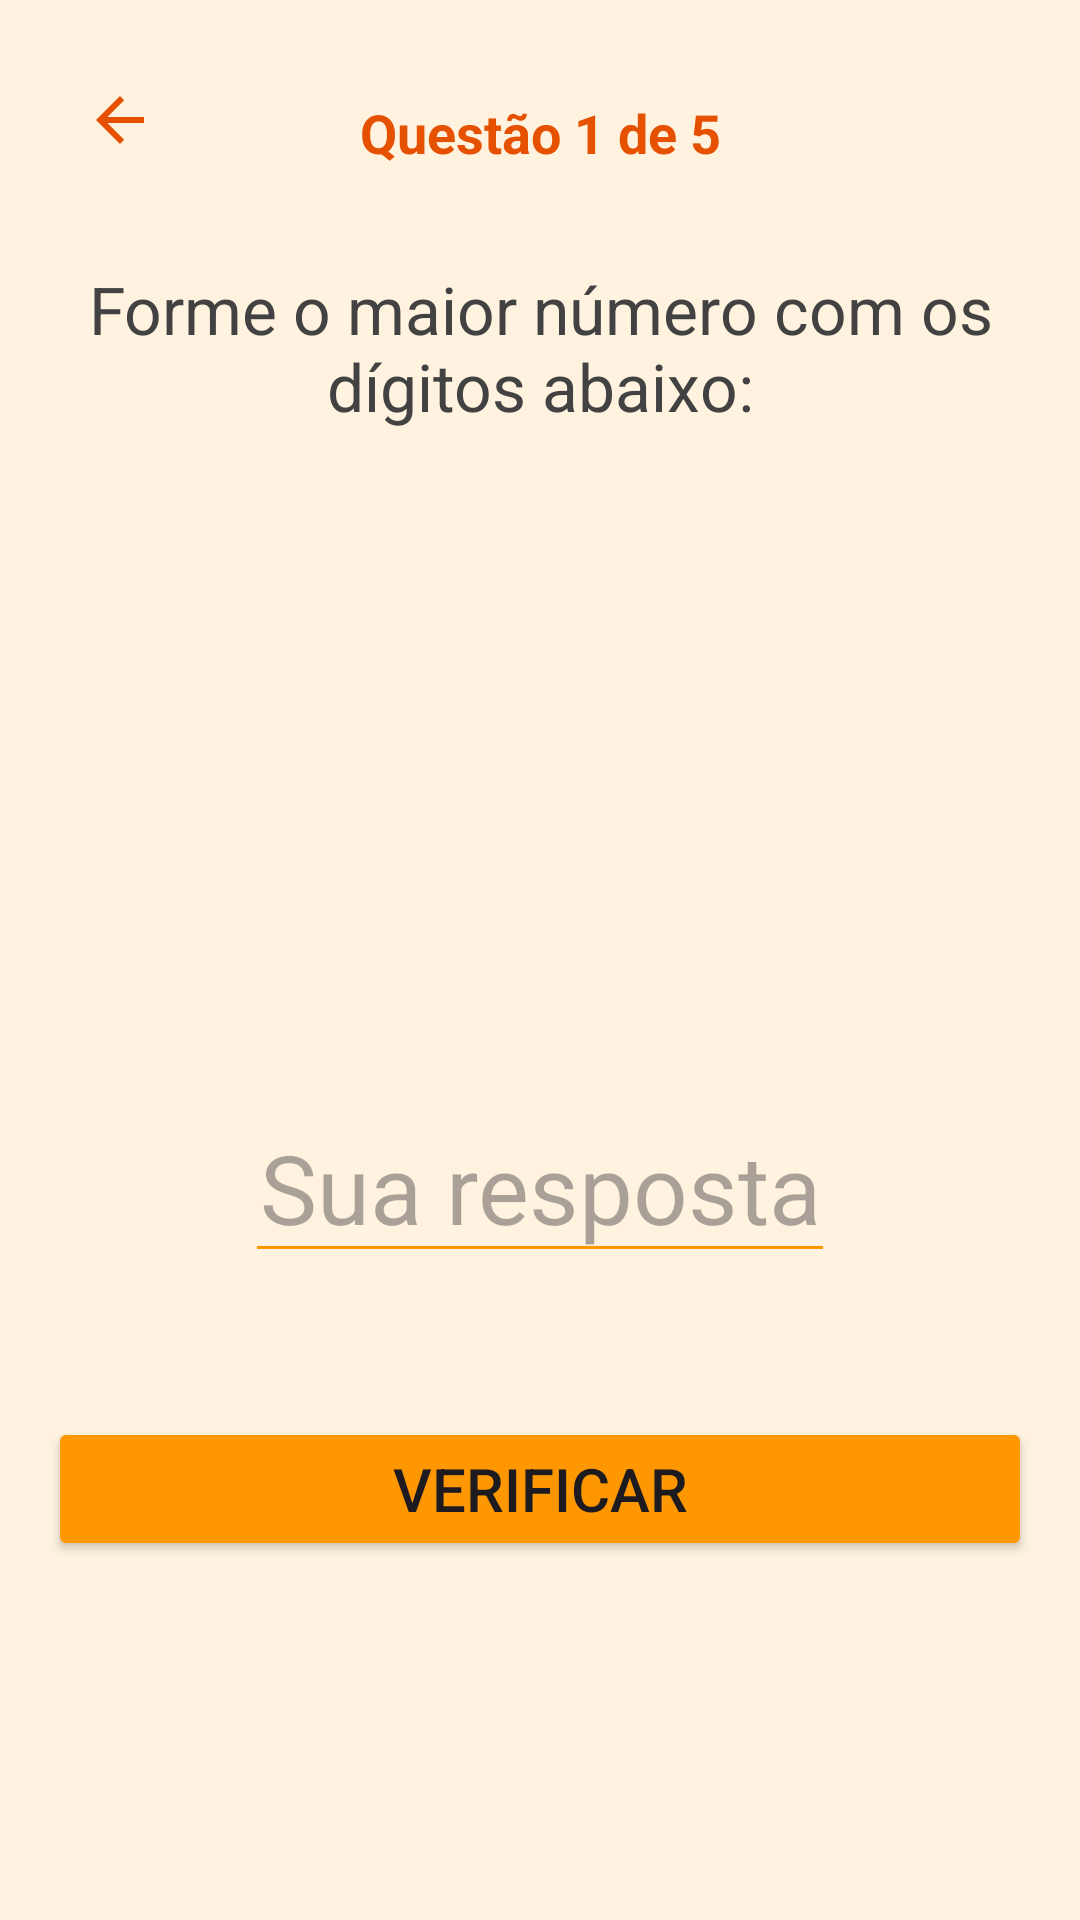

Where to tap for icons on this 1080×1920 app screen, as (x=x, y=y):
Voltar ao menu: (x=120, y=120)
